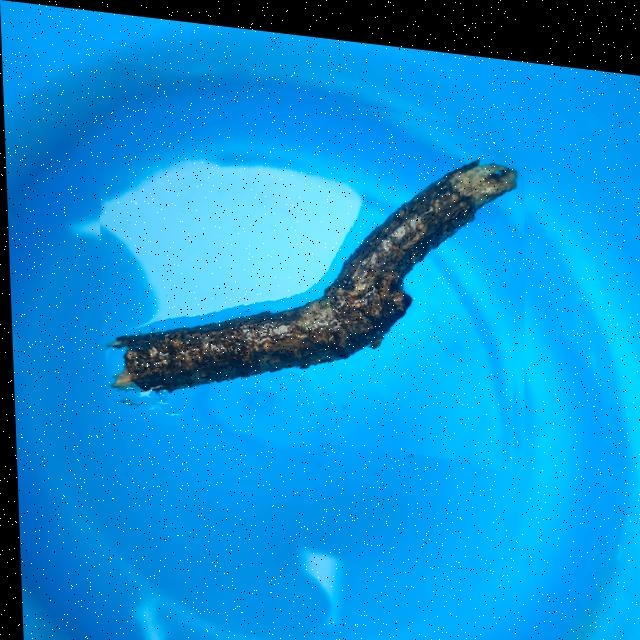litter: (94, 64, 534, 456)
